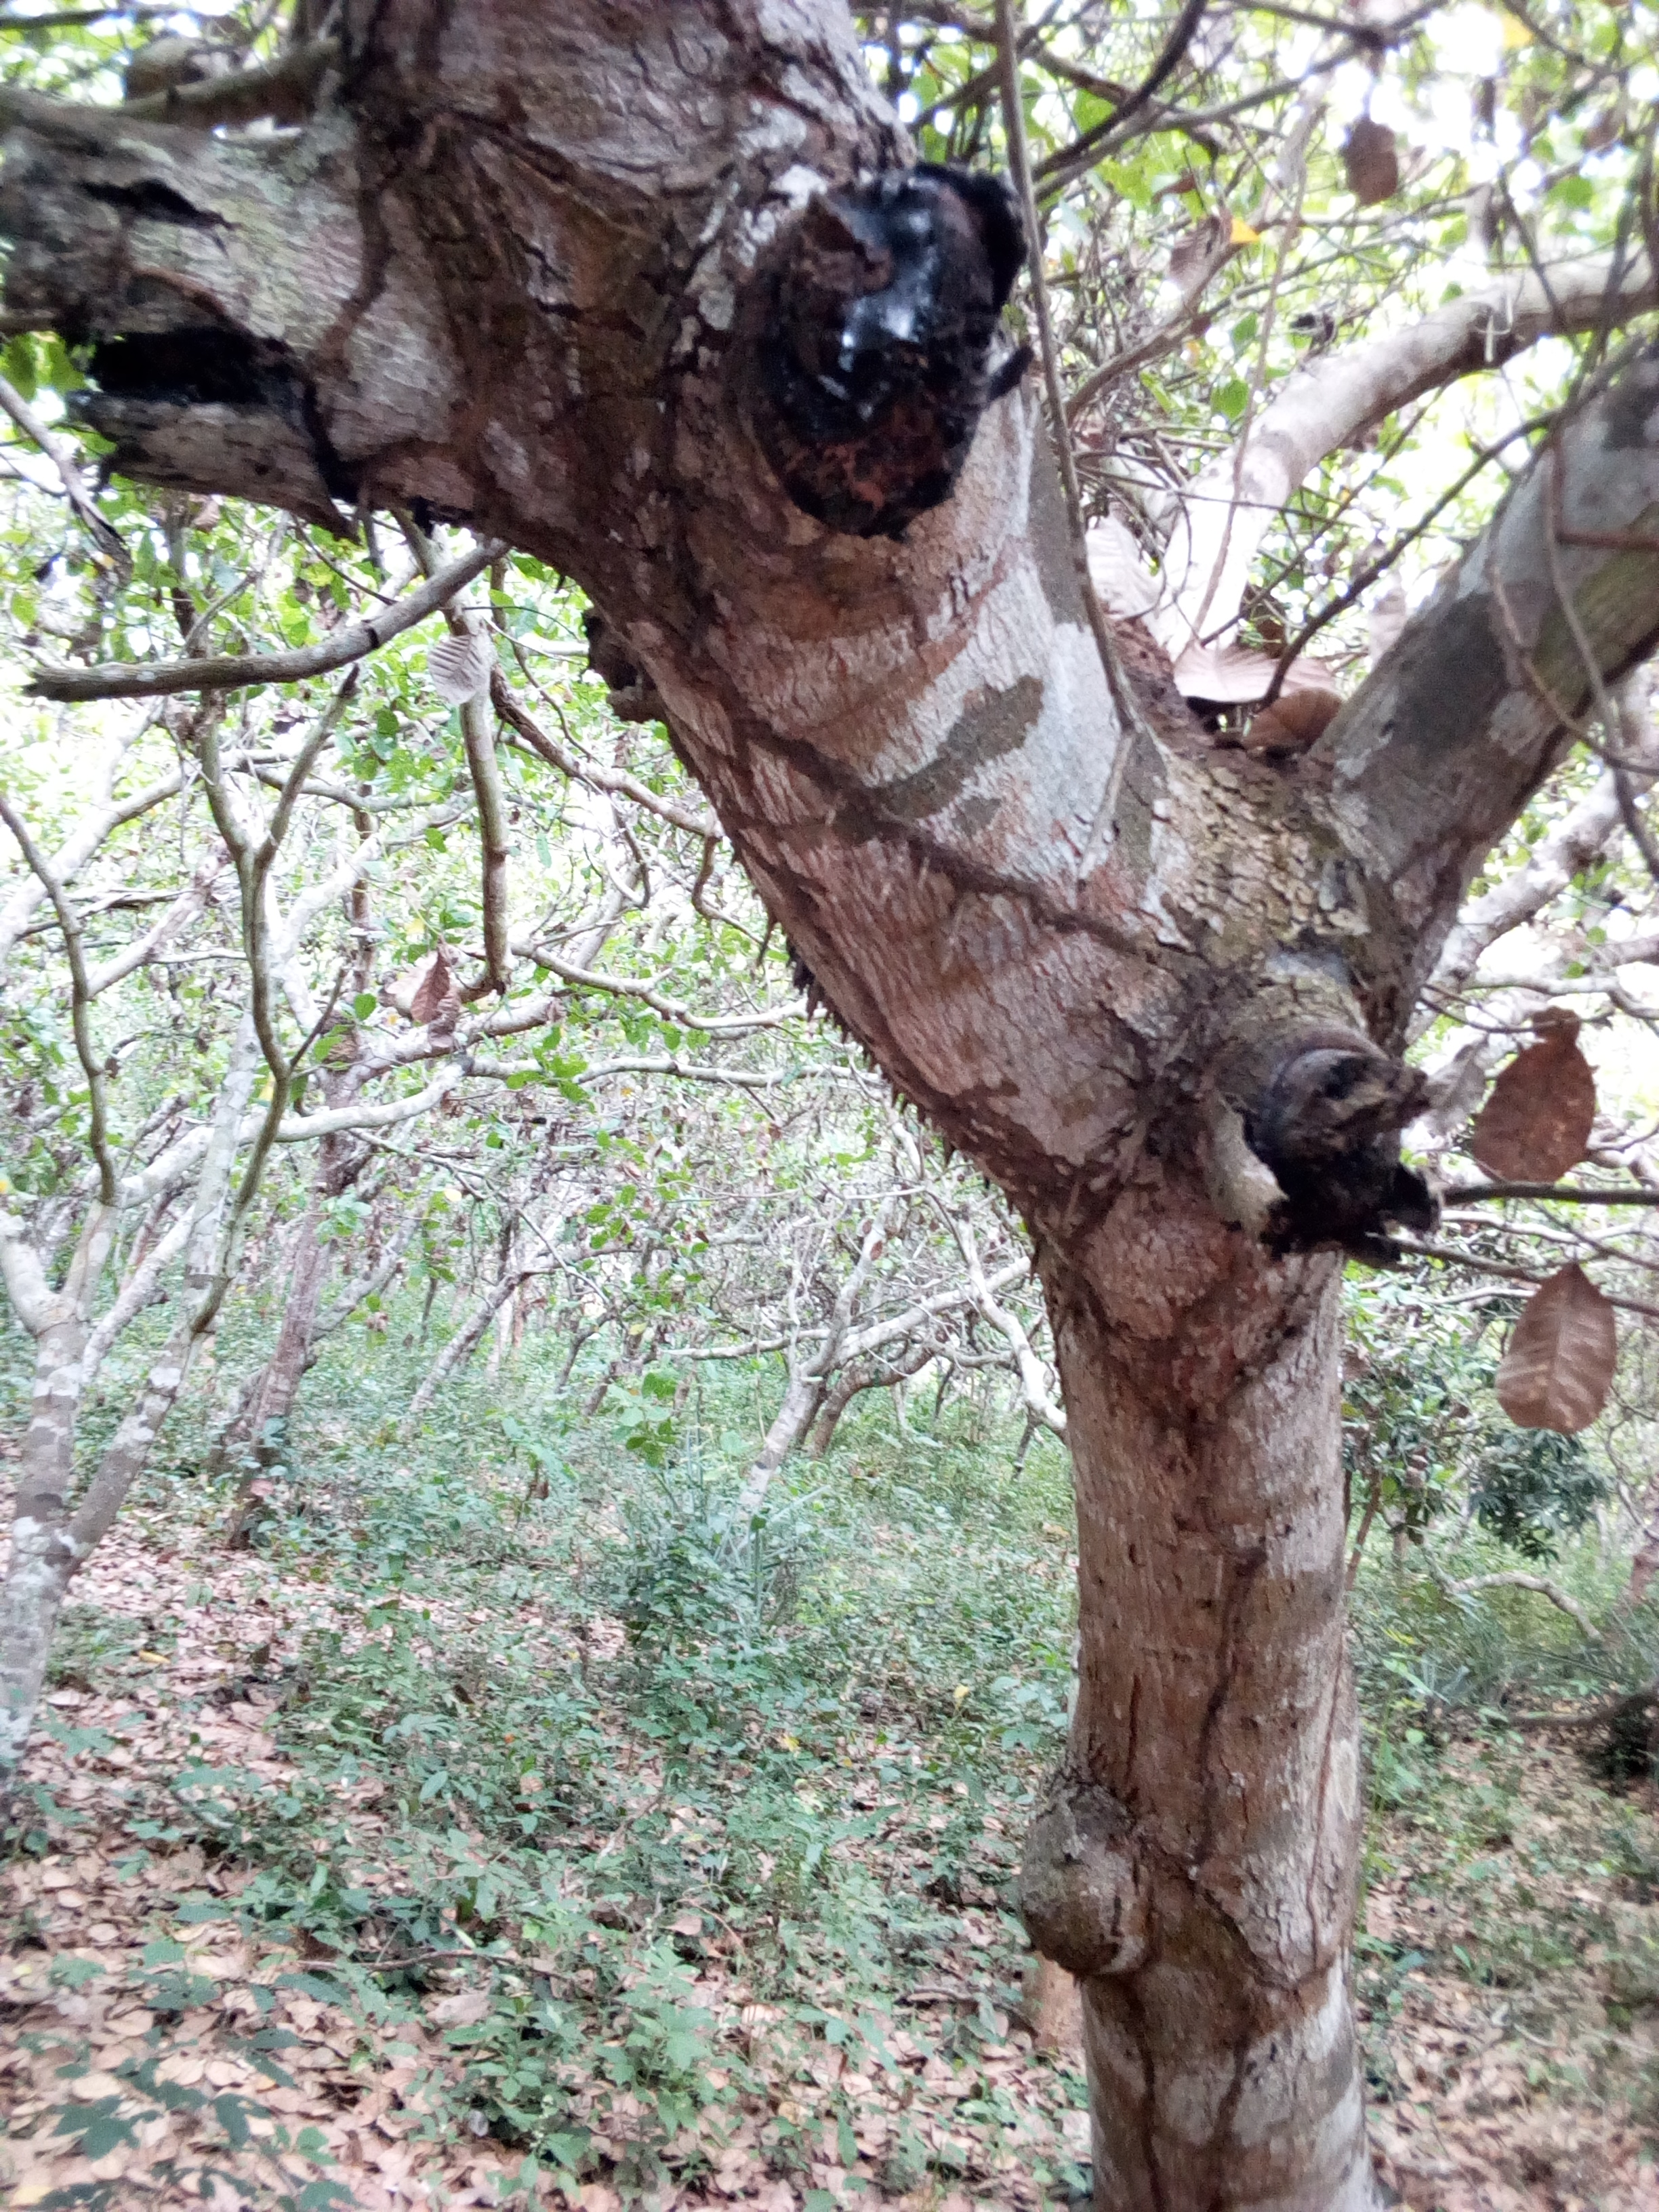Termites: (748, 665, 1164, 1160)
